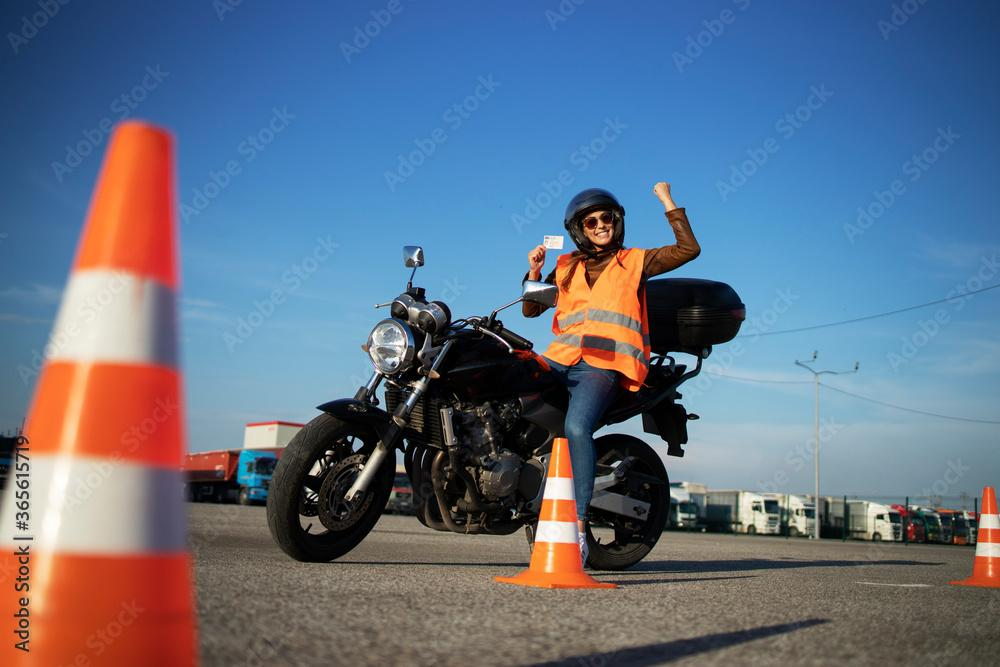helmet: (563, 187, 626, 261)
